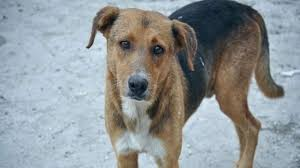dog: (75, 5, 282, 168)
